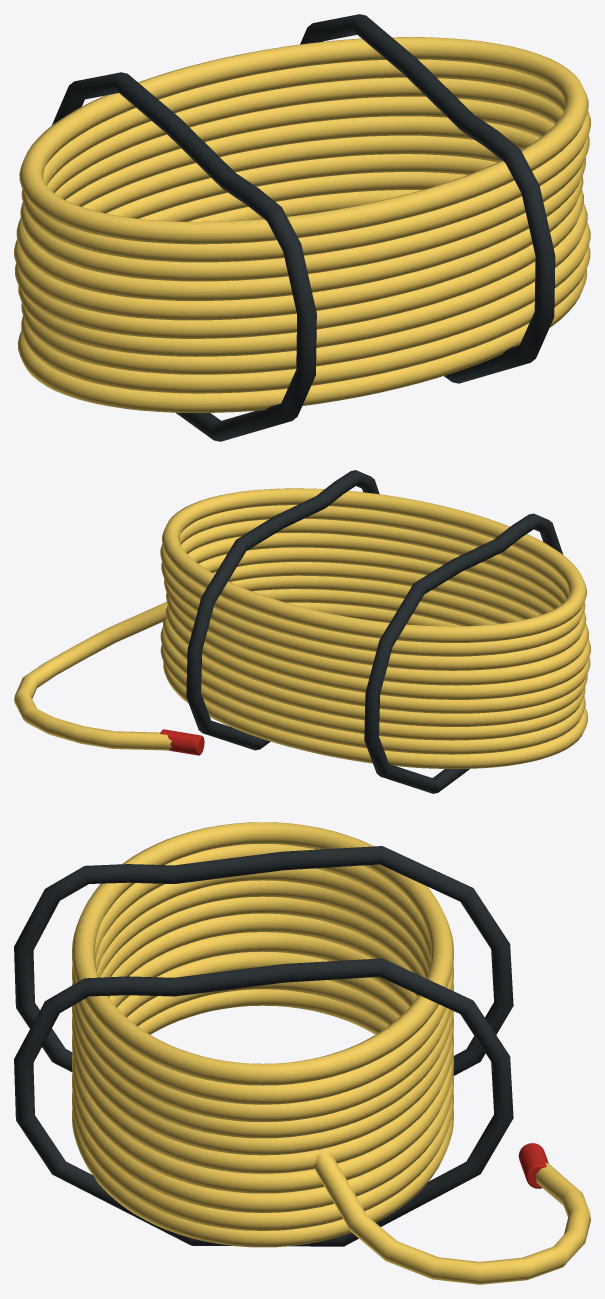
Rendered from rope_coil.glb.
3 renders of one model, top to bottom at view 1: azimuth 30°, elevation 25°; view 2: azimuth 150°, elevation 25°; view 3: azimuth 270°, elevation 25°, orthographic. The views are drawn at different scales.
Visible parts, largest first — view 1: rope_coil_render_mesh; view 2: rope_coil_render_mesh; view 3: rope_coil_render_mesh.
Boxes of the visible parts, box(x1,y1,x2,y2) form: rope_coil_render_mesh: box(14, 14, 590, 441); rope_coil_render_mesh: box(14, 470, 590, 793); rope_coil_render_mesh: box(14, 822, 590, 1284).
Bounding box in the file's own units: 0.3178 × 0.1431 × 0.2603.
